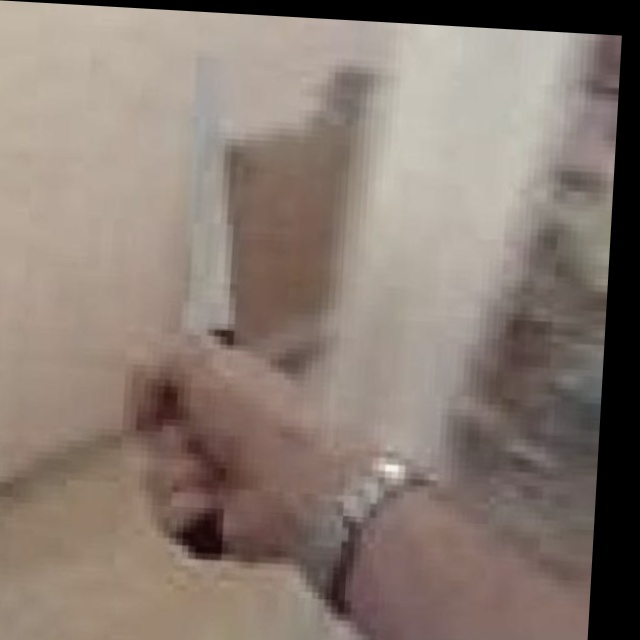Sharp-Object: (161, 59, 252, 565)
